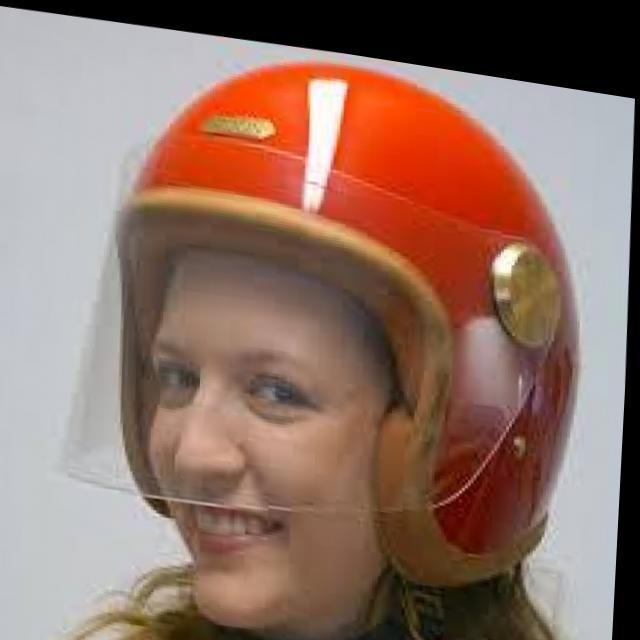Helmet: (51, 44, 583, 640)
